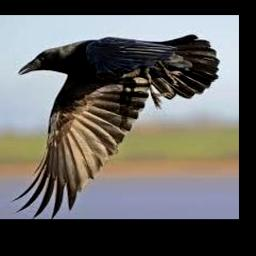Crow: (12, 35, 220, 219)
